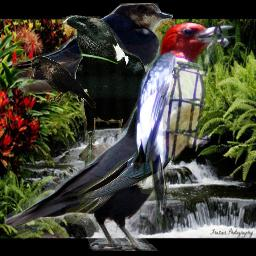Crow: (4, 97, 190, 251), (62, 15, 147, 169), (31, 56, 96, 108)
Swallow: (12, 3, 173, 93), (66, 129, 182, 226)
Woodpecker: (133, 20, 238, 224)
